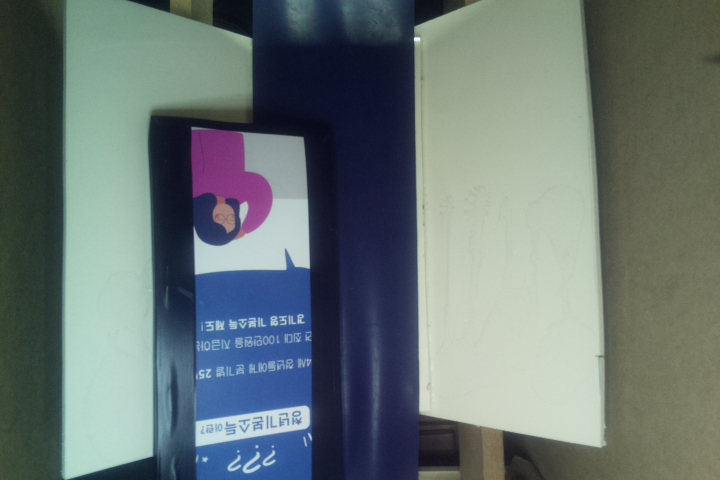book: (147, 116, 339, 480)
